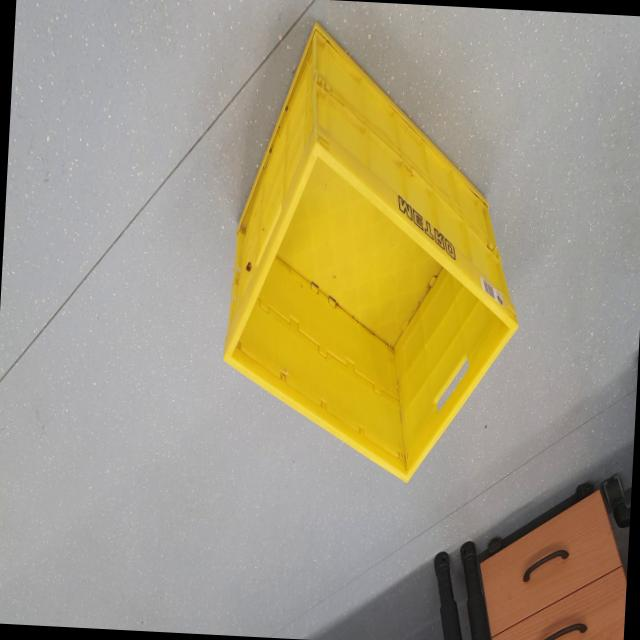box: (196, 10, 550, 512)
